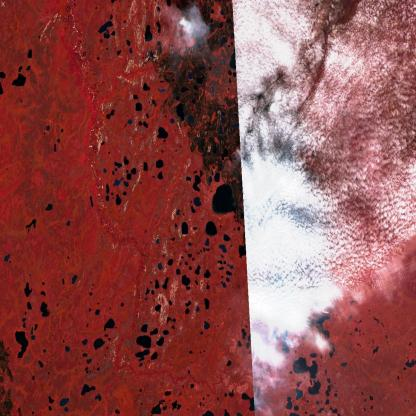fire: (173, 0, 352, 362)
